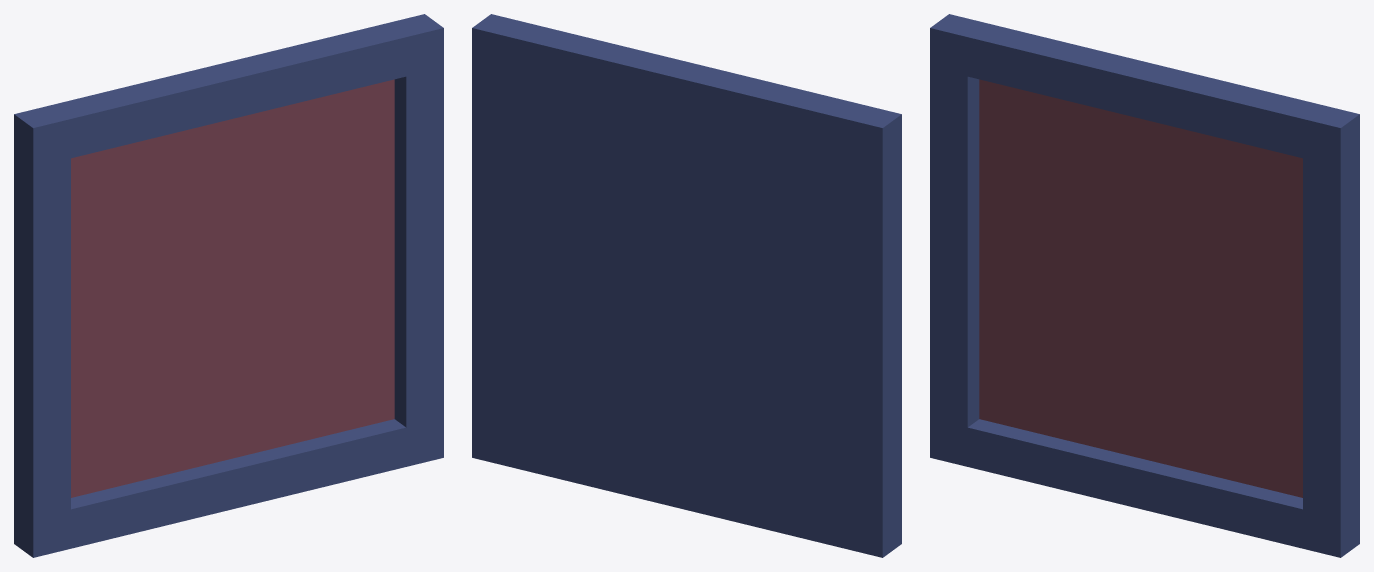
File: PaintingSquare.fbx
3 renders of one model, left to right at view 1: azimuth 30°, elevation 25°; view 2: azimuth 150°, elevation 25°; view 3: azimuth 330°, elevation 25°, orthographic.
Parts seen in each view (by area): view 1: paintingSquare; view 2: paintingSquare; view 3: paintingSquare.
Part boxes in pixels (left/top/right/bottom): paintingSquare: left=14, top=14, right=443, bottom=557; paintingSquare: left=472, top=14, right=901, bottom=557; paintingSquare: left=930, top=14, right=1359, bottom=557.
Size of the model in its own units: 0.7041 by 0.7041 by 0.0568.
